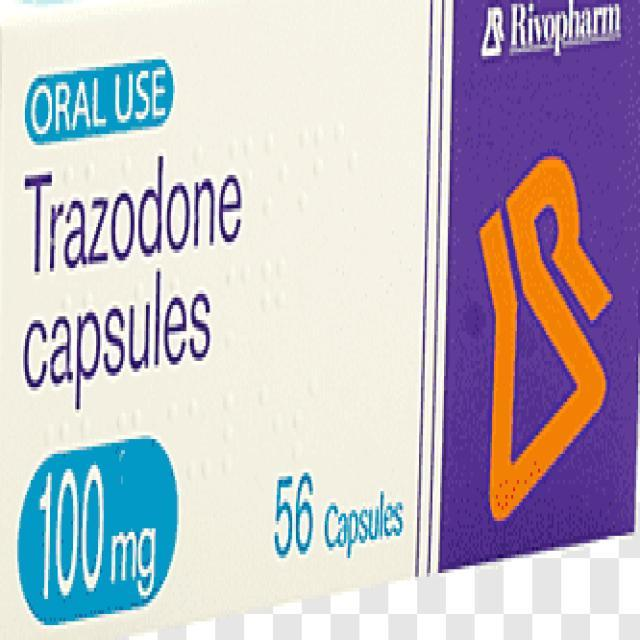drug-name: (19, 156, 249, 278)
